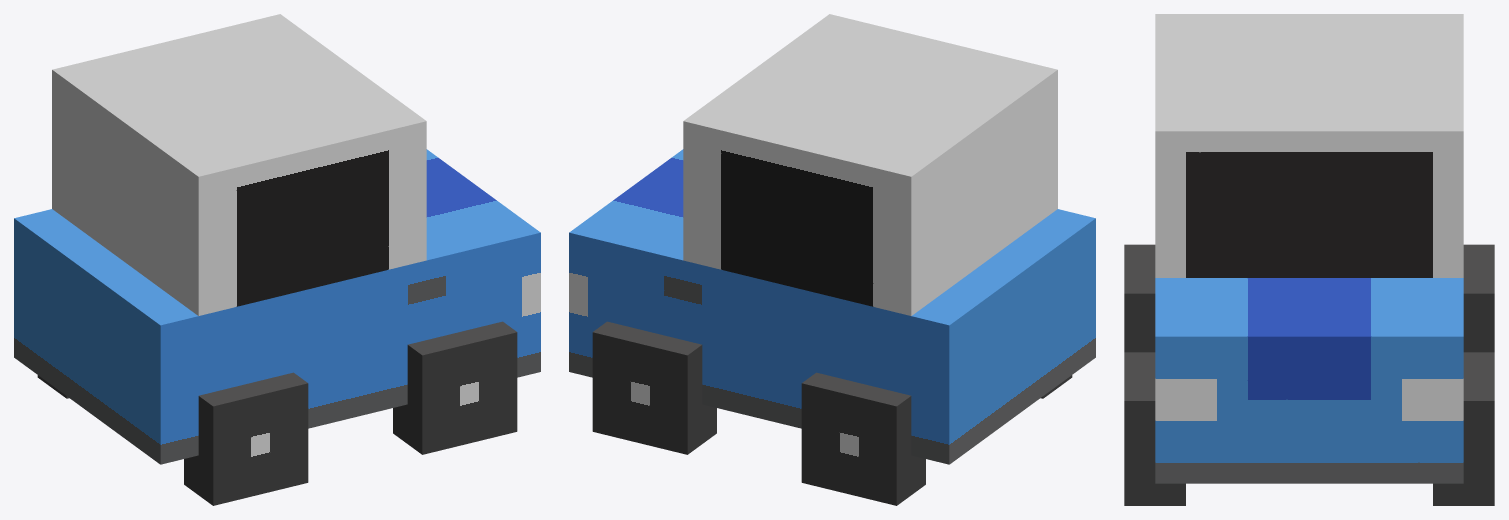
The model's file is car_0.gltf.
3 renders of one model, left to right at view 1: azimuth 30°, elevation 25°; view 2: azimuth 150°, elevation 25°; view 3: azimuth 270°, elevation 25°, orthographic. The views are drawn at different scales.
Parts seen in each view (by area): view 1: cube; view 2: cube; view 3: cube.
Boxes of the visible parts, x1,y1,x2,y2 form: cube: [14, 14, 540, 505]; cube: [569, 14, 1095, 505]; cube: [1124, 14, 1494, 505].
Bounding box in the file's own units: 1.25 × 1 × 1.
Materials: 1 (1 with a texture image).
